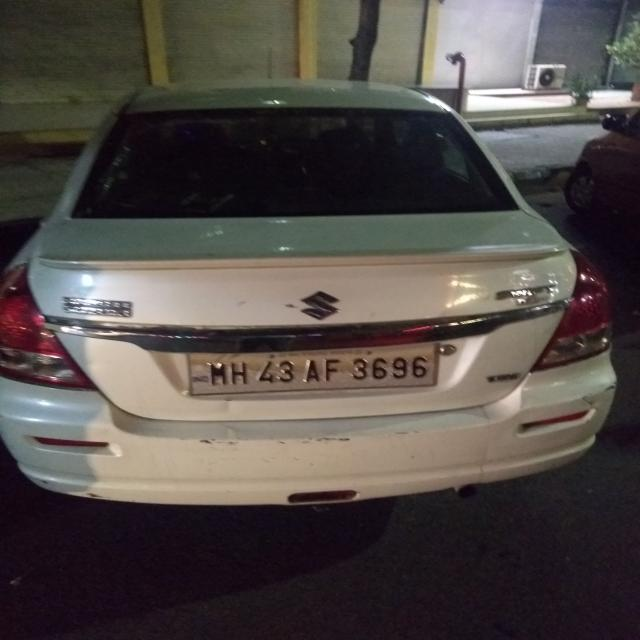Number-Plate: (189, 348, 444, 392)
